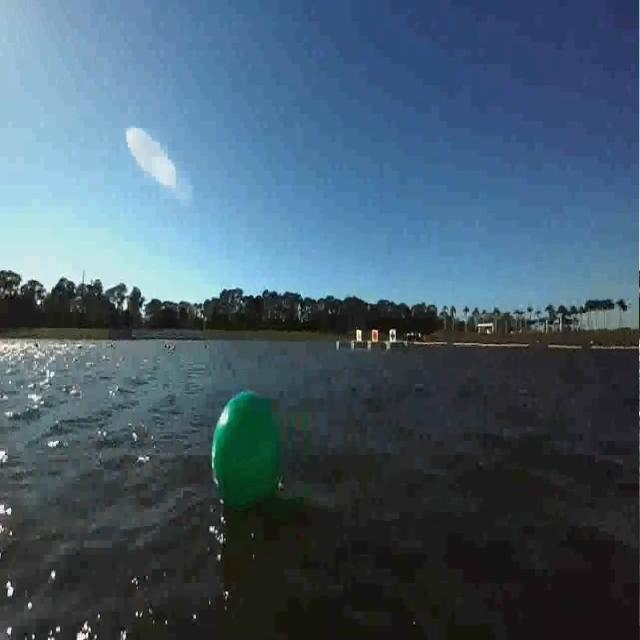green-buoy: (207, 388, 280, 514)
